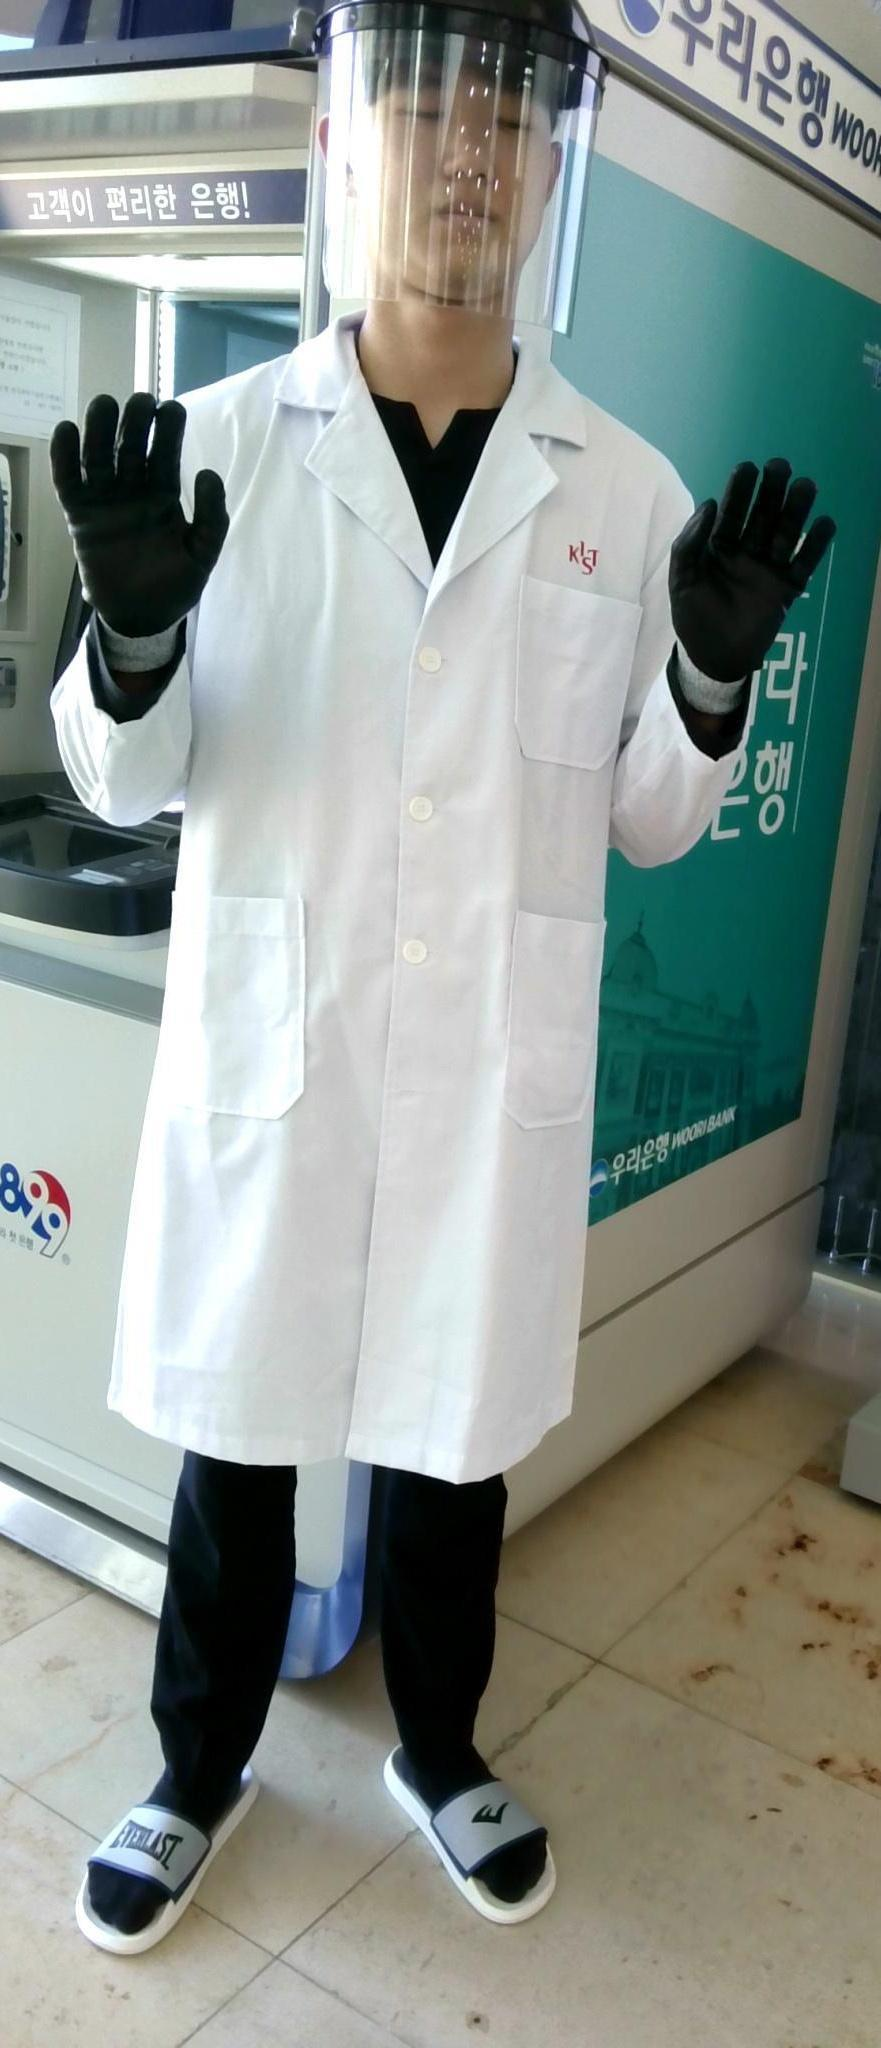lab_coat: (167, 408, 693, 1437)
